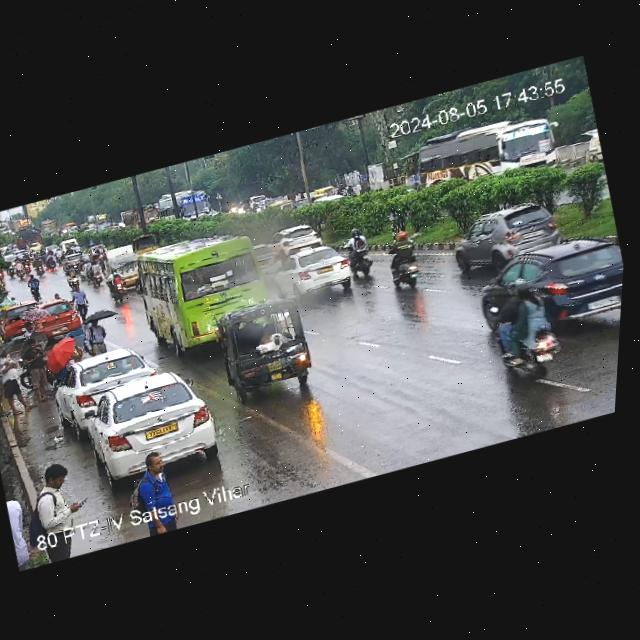bus: (120, 218, 277, 364), (411, 107, 561, 199), (157, 184, 216, 229), (82, 208, 111, 233)
car: (454, 225, 626, 354), (71, 361, 224, 489), (208, 287, 327, 405), (444, 190, 574, 274), (49, 340, 162, 423), (265, 235, 364, 307), (0, 287, 85, 349), (268, 219, 330, 258), (108, 250, 144, 291), (130, 231, 162, 255)
motorcycle: (483, 270, 565, 381), (375, 225, 435, 294), (335, 225, 381, 281), (54, 240, 93, 278), (84, 244, 112, 282), (35, 242, 65, 275), (1, 252, 35, 281), (104, 268, 133, 301), (26, 274, 44, 304), (410, 169, 422, 190)
person: (27, 459, 89, 534), (0, 477, 41, 567), (17, 332, 60, 407), (0, 340, 38, 415), (135, 449, 180, 511), (81, 315, 116, 357), (0, 337, 18, 417), (70, 282, 92, 314), (62, 344, 79, 366), (23, 320, 36, 334)
truck: (121, 201, 163, 232)
